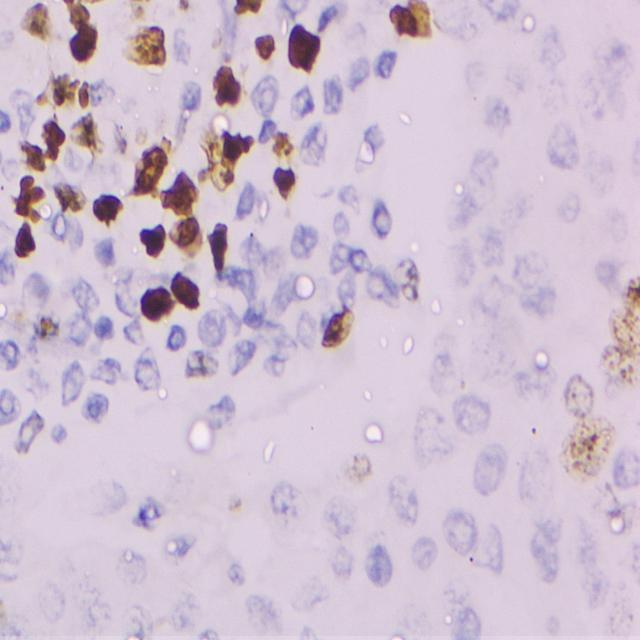Healthy cell: (574, 518, 608, 607), (450, 392, 502, 448), (443, 182, 499, 230), (78, 575, 119, 638), (535, 504, 565, 586), (598, 27, 636, 90), (412, 405, 448, 471), (24, 576, 70, 625), (319, 490, 361, 543), (385, 472, 420, 529), (266, 472, 302, 527), (550, 118, 582, 178), (470, 519, 506, 570), (180, 593, 219, 640), (520, 362, 558, 410), (522, 283, 558, 333), (540, 16, 579, 62), (109, 256, 138, 317), (432, 348, 464, 403), (520, 461, 558, 506), (362, 262, 399, 308), (287, 575, 329, 614), (584, 140, 616, 191), (442, 508, 477, 554), (443, 604, 487, 640), (532, 68, 566, 114), (474, 273, 506, 321), (476, 222, 508, 270), (204, 388, 238, 432), (249, 599, 285, 640), (479, 446, 505, 502), (2, 530, 27, 586), (68, 276, 104, 314), (368, 543, 398, 588), (606, 82, 637, 125), (479, 100, 515, 136), (446, 239, 474, 285), (572, 70, 600, 116), (195, 308, 228, 347), (500, 53, 531, 94), (89, 482, 126, 516), (60, 359, 86, 407), (238, 228, 264, 276), (509, 250, 540, 290), (220, 557, 256, 591), (22, 269, 50, 312), (346, 50, 376, 90), (329, 537, 355, 583), (299, 119, 325, 165), (132, 486, 160, 528), (475, 149, 508, 184), (370, 193, 393, 243), (250, 73, 280, 111), (135, 347, 157, 397), (167, 530, 201, 562), (50, 218, 83, 250), (121, 316, 152, 350), (83, 386, 109, 426), (463, 54, 488, 94), (240, 296, 267, 333), (60, 310, 90, 343), (125, 597, 148, 640), (557, 187, 579, 231), (116, 553, 145, 585), (94, 357, 122, 390), (409, 536, 437, 569), (163, 315, 187, 353), (226, 263, 258, 291), (332, 180, 363, 208), (93, 312, 117, 348), (349, 239, 371, 277), (329, 212, 355, 244), (482, 0, 518, 23), (229, 336, 254, 368), (324, 68, 342, 112), (292, 85, 317, 116), (375, 45, 397, 80), (0, 379, 16, 426), (96, 230, 118, 263), (363, 119, 385, 152), (593, 253, 612, 291), (274, 282, 294, 318), (19, 330, 41, 362), (272, 330, 296, 359), (26, 366, 48, 397), (329, 242, 351, 272), (0, 336, 17, 374), (15, 102, 35, 134), (238, 180, 254, 220), (49, 419, 70, 448), (9, 85, 35, 108), (180, 79, 201, 106), (2, 243, 15, 280), (339, 274, 356, 300), (0, 103, 8, 137)
cancer-cell-QiJm: (563, 410, 617, 476), (590, 484, 640, 532), (478, 320, 512, 390), (118, 24, 168, 66), (36, 68, 77, 116), (126, 146, 164, 196), (434, 0, 479, 42), (564, 370, 600, 422), (319, 302, 359, 348), (172, 263, 206, 315), (186, 339, 220, 390), (68, 108, 104, 156), (604, 305, 640, 353), (162, 170, 198, 218), (23, 0, 59, 46), (32, 113, 66, 159), (15, 410, 48, 456), (169, 216, 206, 255), (145, 284, 180, 324), (290, 26, 320, 72), (206, 220, 229, 277), (20, 136, 51, 177), (199, 163, 235, 198), (137, 222, 170, 260), (214, 63, 240, 111), (343, 444, 373, 484), (72, 23, 101, 64), (50, 182, 86, 215), (226, 130, 257, 168), (292, 216, 317, 263), (89, 192, 124, 225), (316, 3, 348, 37), (262, 239, 288, 280), (384, 3, 416, 36), (407, 0, 431, 42), (275, 159, 299, 201), (203, 130, 231, 166), (398, 256, 420, 300), (613, 599, 636, 640), (272, 128, 296, 164), (250, 29, 275, 63), (151, 604, 173, 640), (620, 268, 640, 306), (623, 351, 640, 394), (0, 302, 24, 332), (0, 590, 14, 639), (13, 225, 34, 257), (174, 24, 190, 66), (174, 108, 192, 144), (603, 344, 626, 372), (37, 309, 59, 338), (125, 0, 155, 21), (525, 416, 541, 455), (92, 76, 112, 106), (69, 0, 89, 29), (233, 0, 269, 16), (132, 120, 152, 148), (18, 186, 46, 205), (19, 196, 43, 218), (113, 122, 131, 151), (226, 486, 244, 514), (214, 45, 240, 64), (277, 0, 307, 16), (209, 22, 226, 50), (1, 156, 22, 178), (153, 129, 175, 150), (256, 113, 272, 137), (75, 76, 86, 110), (169, 0, 197, 13), (3, 216, 16, 237), (14, 176, 32, 191), (88, 0, 104, 9), (62, 0, 75, 8)
